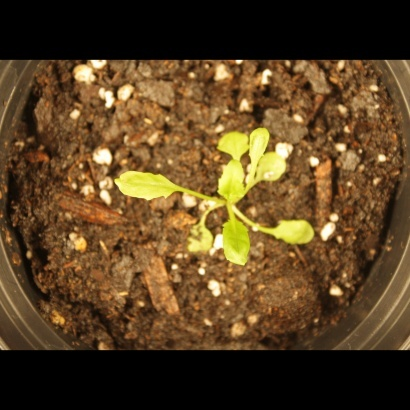leaf: (111, 162, 197, 213), (265, 214, 324, 258), (219, 212, 255, 275), (175, 217, 222, 263), (215, 156, 246, 212), (247, 121, 286, 160), (252, 151, 290, 188), (211, 125, 250, 154)
